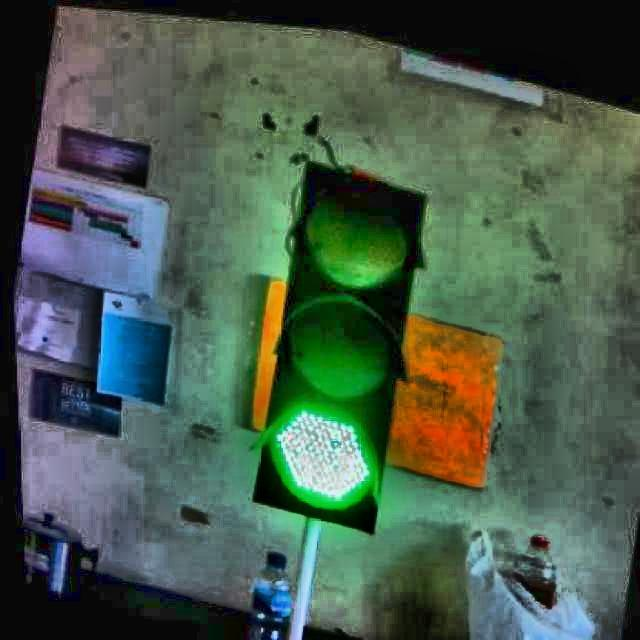green: (245, 157, 426, 530)
